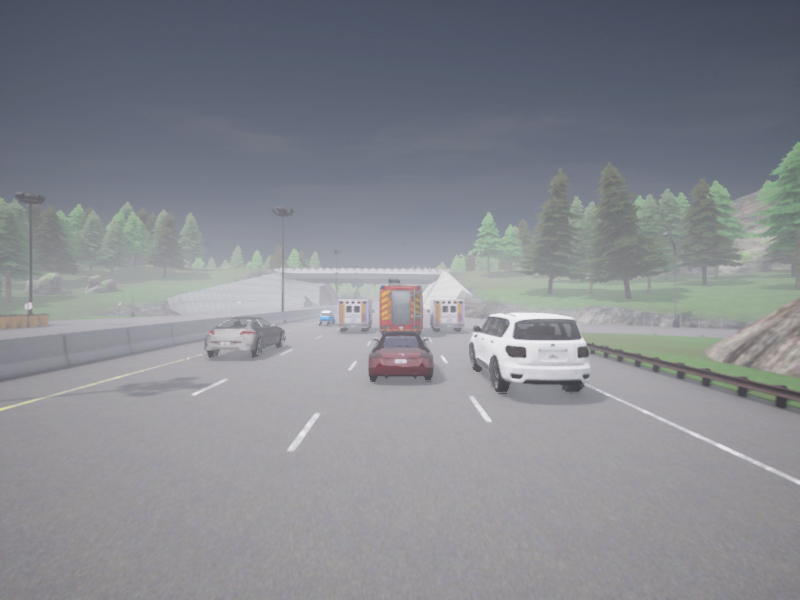vehicle: (469, 313, 590, 392), (368, 331, 433, 380), (204, 317, 284, 356), (379, 278, 422, 334), (337, 299, 374, 330), (427, 299, 464, 330), (320, 311, 335, 325)
